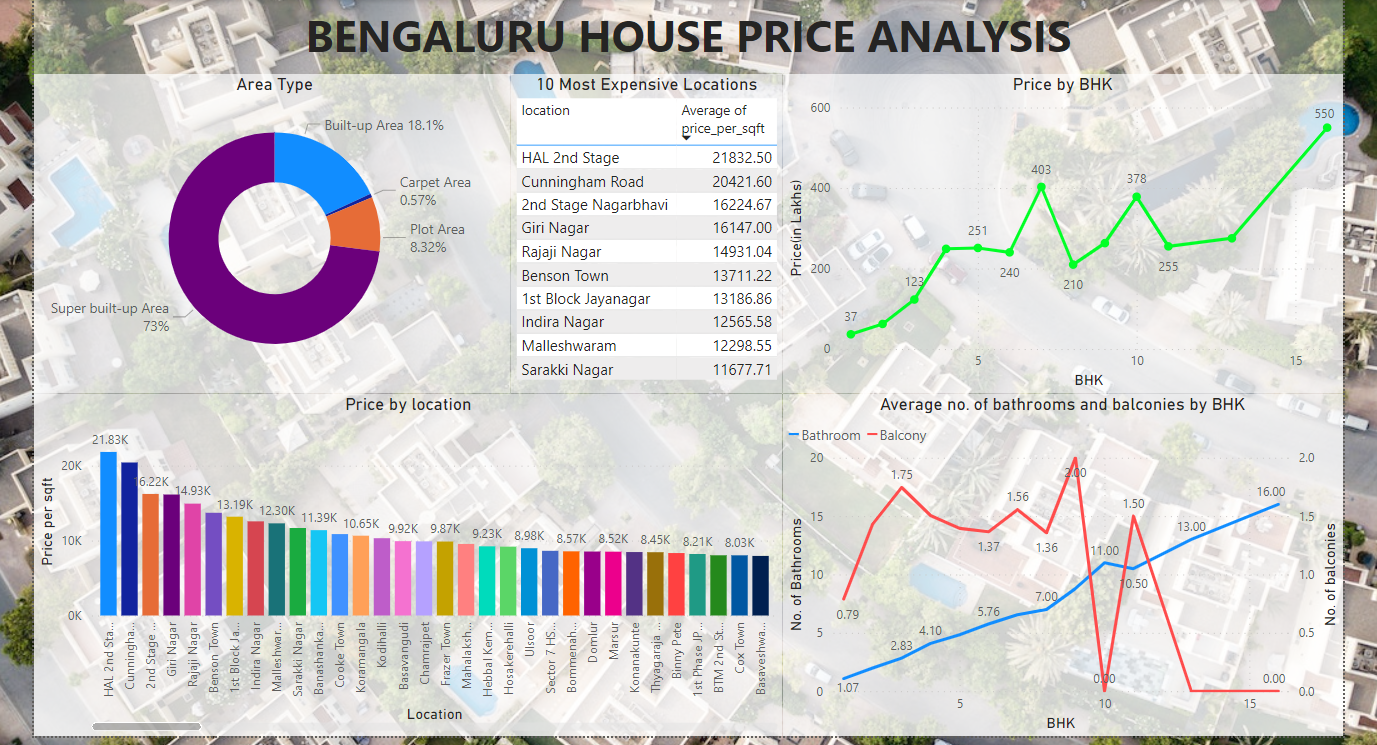

The page's visual inventory and layout, read from the dashboard file:
{"tool":"powerbi","page":{"name":"Page 1","canvas":[1280,720],"ordinal":0},"visuals":[{"type":"donutChart","title":"Area Type","fields":{"Category":["cleaned dataset.area_type"],"Y":["CountNonNull(cleaned dataset.area_type)"]},"box":[0,72.1,465.7,312.9],"z":0},{"type":"columnChart","title":"Price by location","fields":{"Category":["cleaned dataset.location"],"Y":["Avg(cleaned dataset.price_per_sqft)"],"Series":["cleaned dataset.location"]},"box":[0,385.1,732.2,334.9],"z":1000},{"type":"tableEx","title":"10 Most Expensive Locations ","fields":{"Values":["cleaned dataset.location","Avg(cleaned dataset.price_per_sqft)"]},"box":[465.7,72.1,266.5,312.9],"z":2000},{"type":"lineChart","title":"Price by BHK","fields":{"Category":["cleaned dataset.bhk"],"Y":["Avg(cleaned dataset.price)"]},"box":[732.2,72.1,547.6,312.9],"z":3000},{"type":"lineChart","title":"Average no. of bathrooms and balconies by BHK","fields":{"Category":["cleaned dataset.bhk"],"Y":["Avg(cleaned dataset.bath)"],"Y2":["Avg(cleaned dataset.balcony)"]},"box":[732.2,385.1,547.6,334.9],"z":4000},{"type":"textbox","box":[0,0,1279.9,72.1],"z":4001}]}

Visuals, with their boxes in screenshot pixels (x1, y1, x2, y2):
"Area Type" donutChart: locate(29, 74, 504, 393)
"Price by location" columnChart: locate(29, 393, 777, 736)
"10 Most Expensive Locations " tableEx: locate(504, 74, 777, 393)
"Price by BHK" lineChart: locate(777, 74, 1336, 393)
"Average no. of bathrooms and balconies by BHK" lineChart: locate(777, 393, 1336, 736)
textbox: locate(29, 0, 1336, 74)
